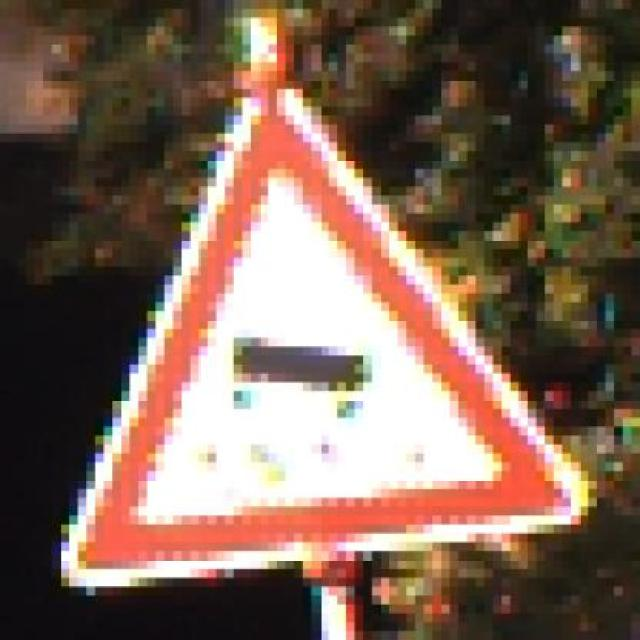Slippery Road Ahead: (52, 71, 597, 595)
